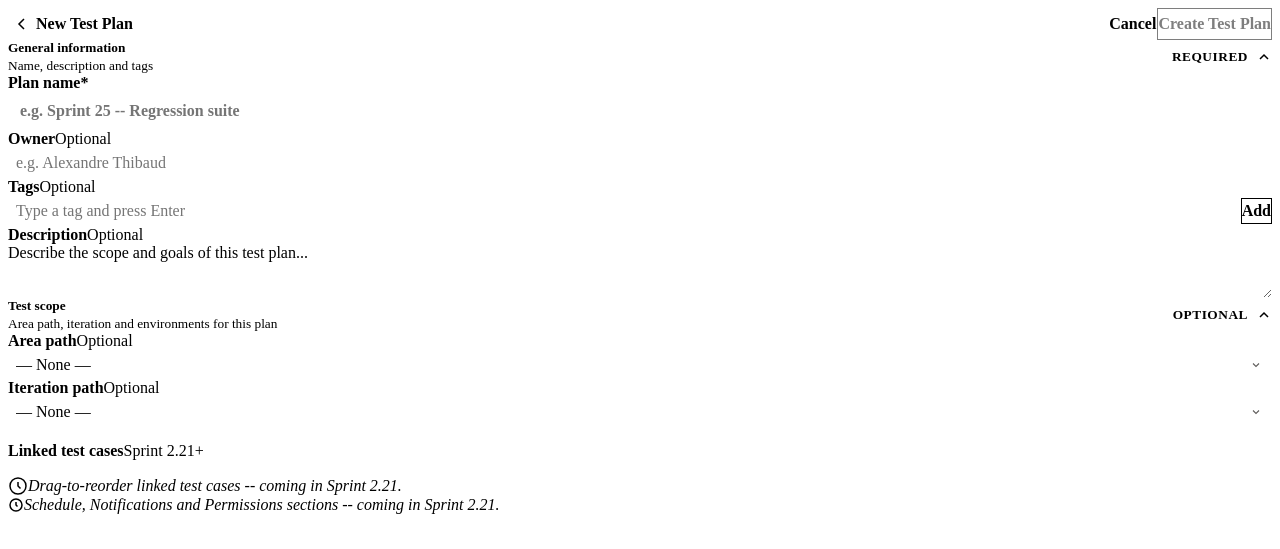
Test: TestPlanFormView (Sprint 2.18) › adds tag on Enter key
Type "smoke" into the field labelled "Tags Optional" at (624, 211), box [8,196,1241,226]
Then press Enter
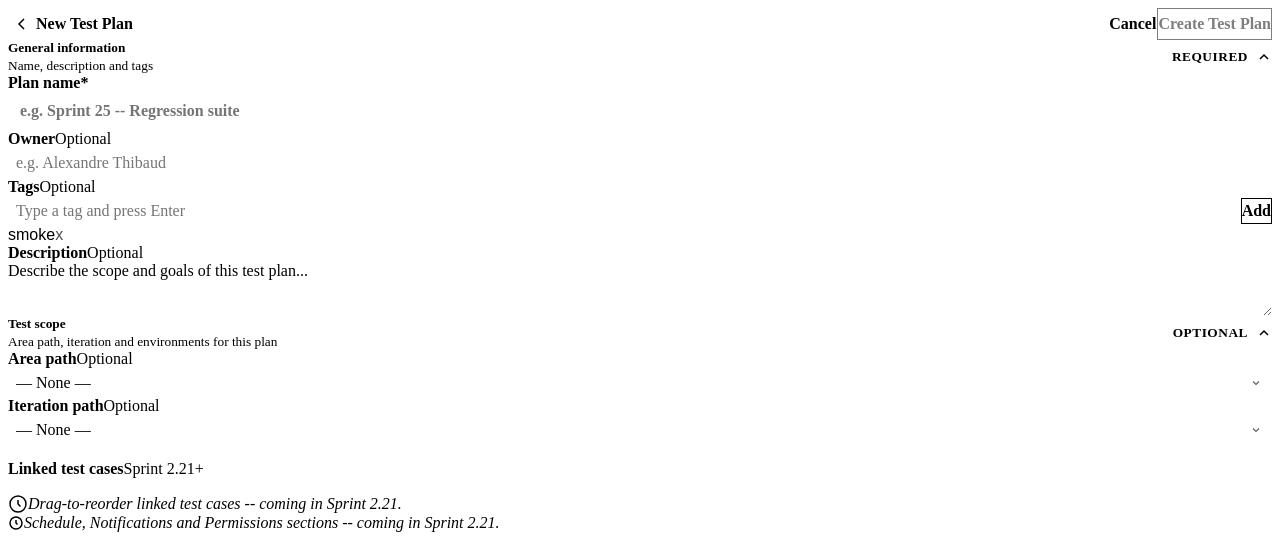
Now the button "smoke x" is shown, box [8,226,63,244]
